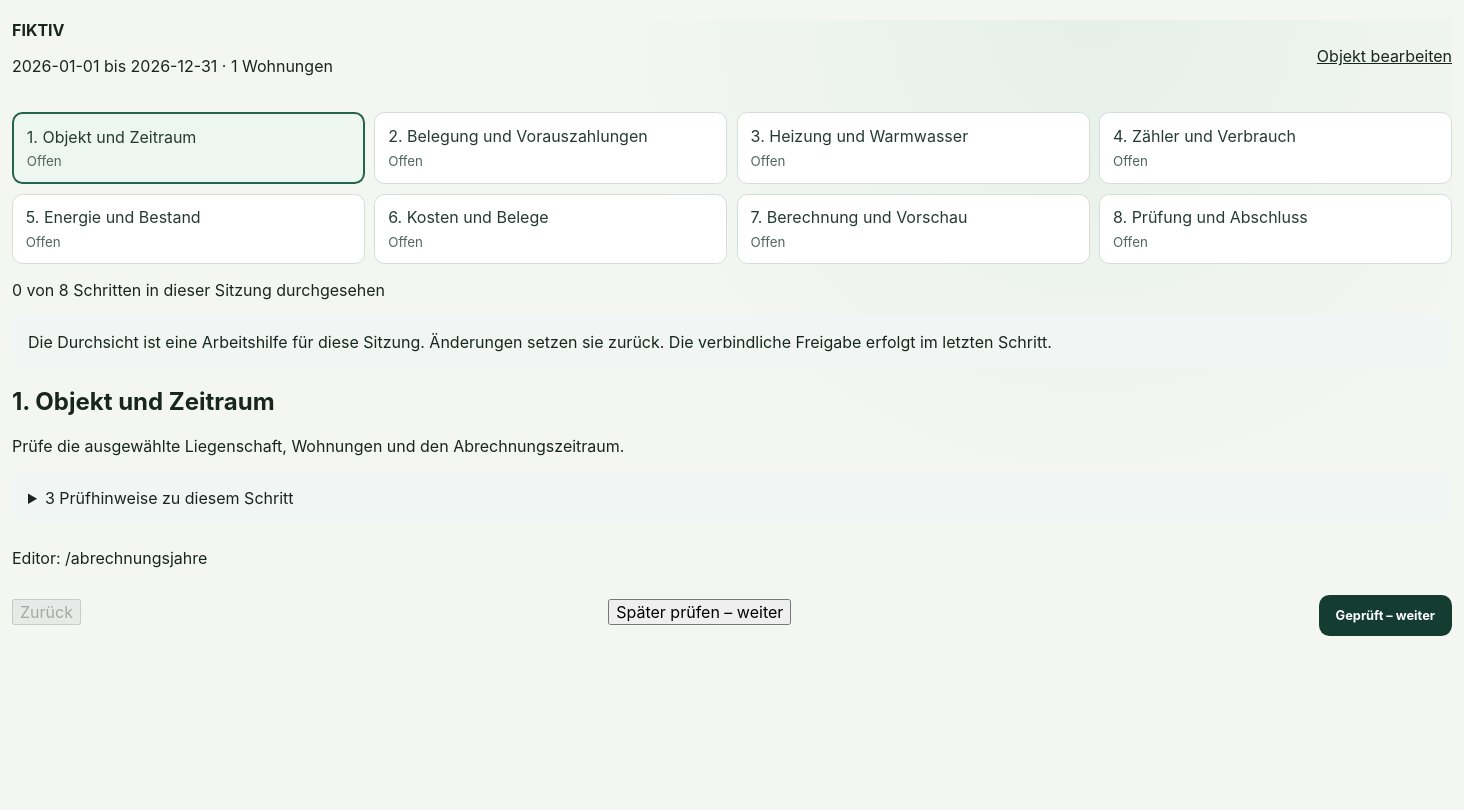
Test: BillingJourney › zeigt Freigabe und Dokumente als echte Abschlussfunktionen
Click the button "8. Prüfung und Abschluss Offen" at (1276, 229), box [1099,194,1452,264]
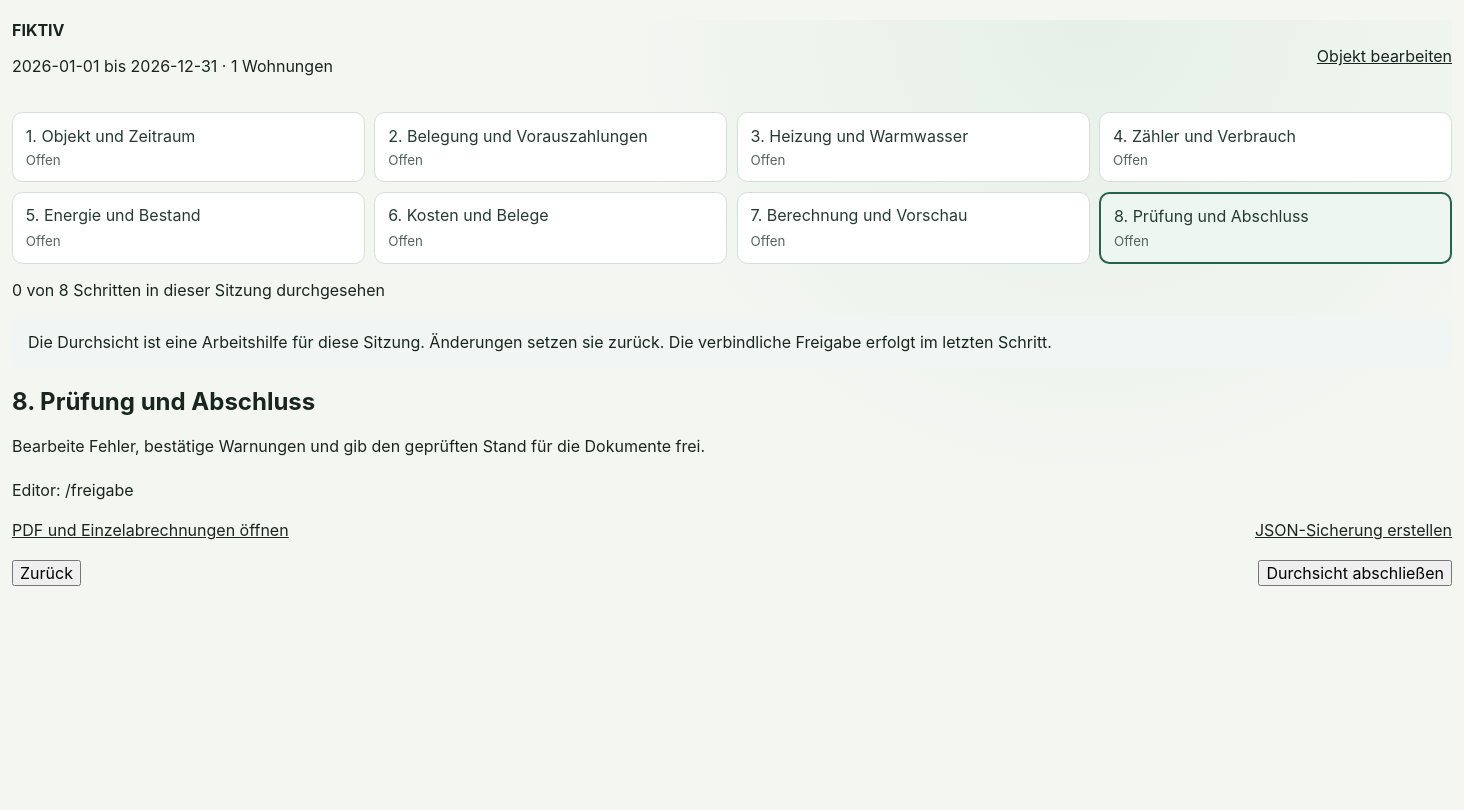
Expected: the text "Editor: /freigabe" is shown, [12,480,134,500]
Expected: the button "Geprüft – weiter" is gone
Click the button "Durchsicht abschließen" at (1355, 573), box [1258,560,1452,586]
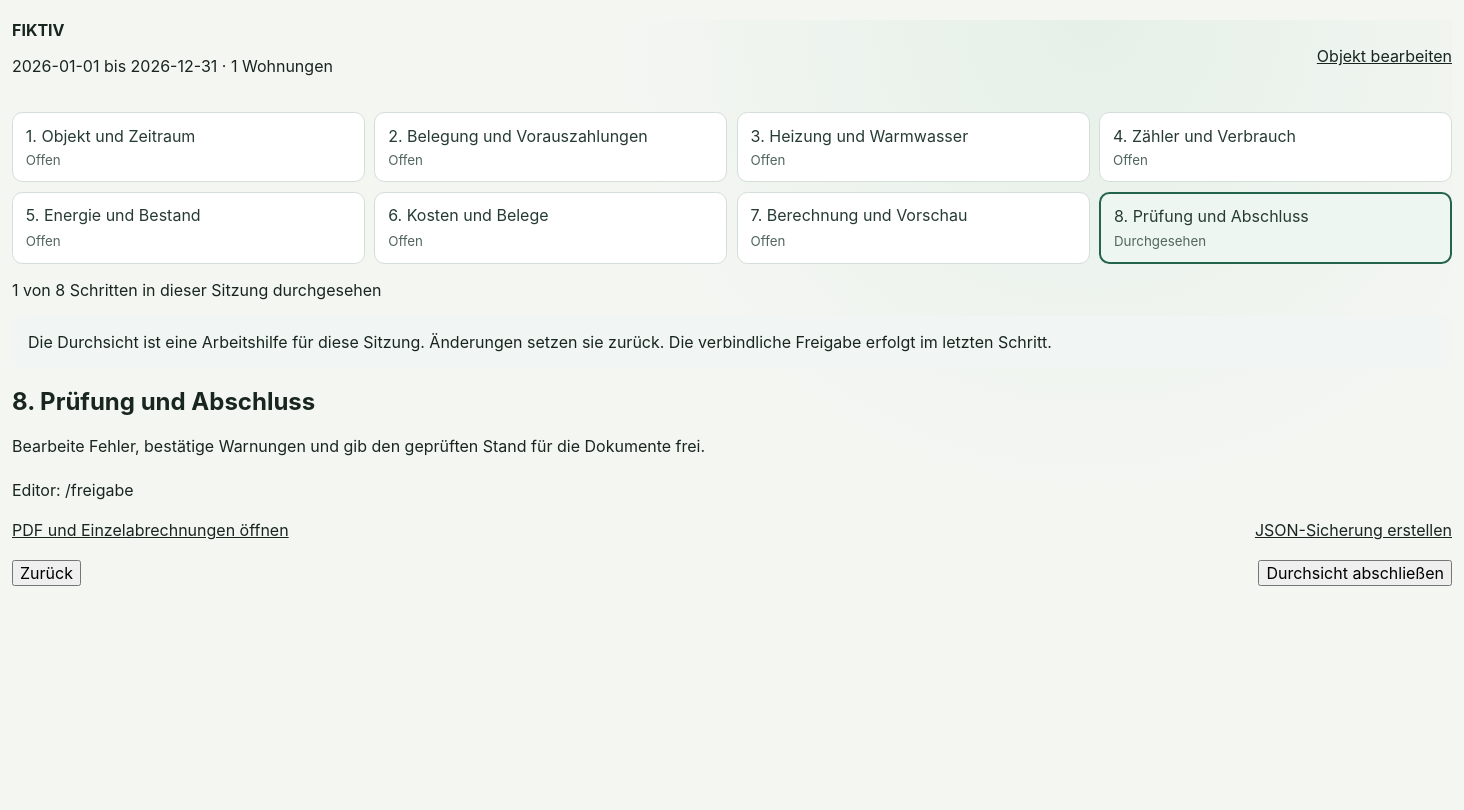
Expected: the text "1 von 8 Schritten in dieser Sitzung durchgesehen" is shown, [12,280,382,300]
